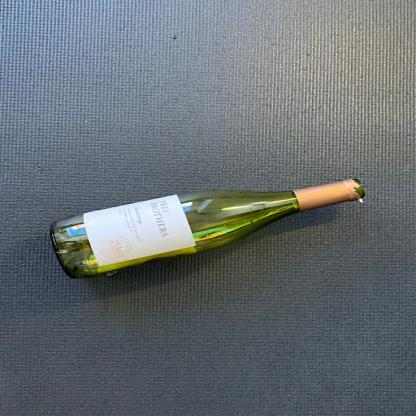trash: (44, 168, 373, 280)
